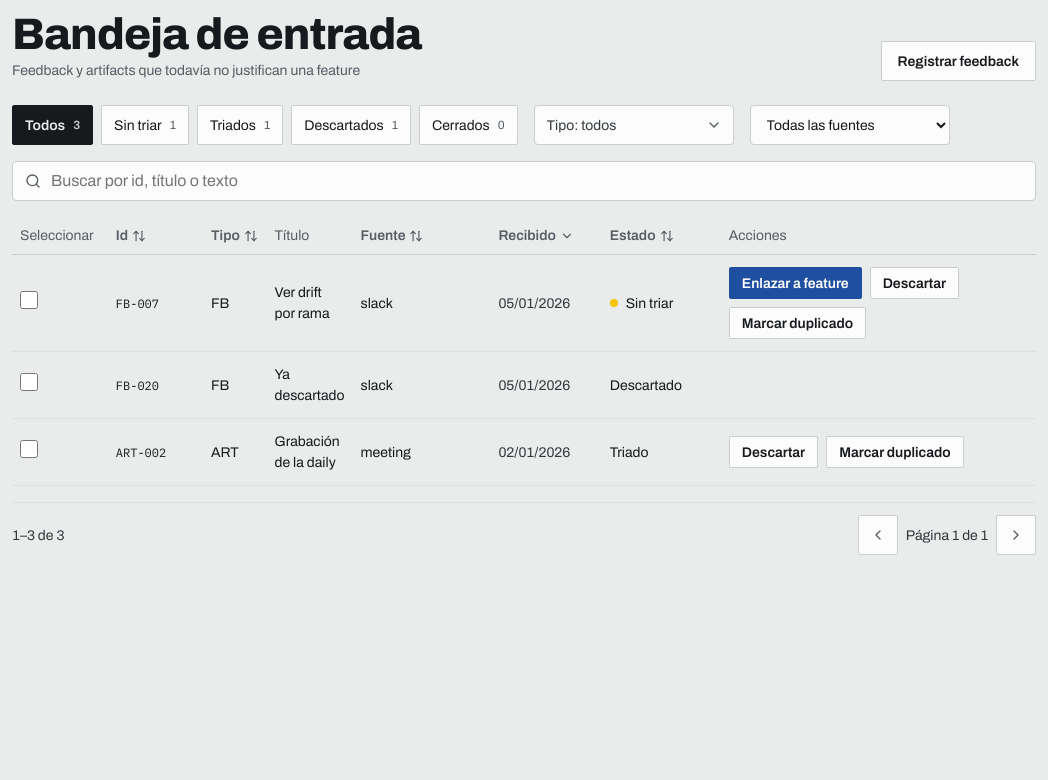
it: Entrada › triage › filters to dismissed items with the «Descartados» chip
Expected: the text "FB-020" is shown, [116,378,159,392]
Click the radio button labelled "Descartados 1". click: (351, 125)
box: [291,105,411,145]
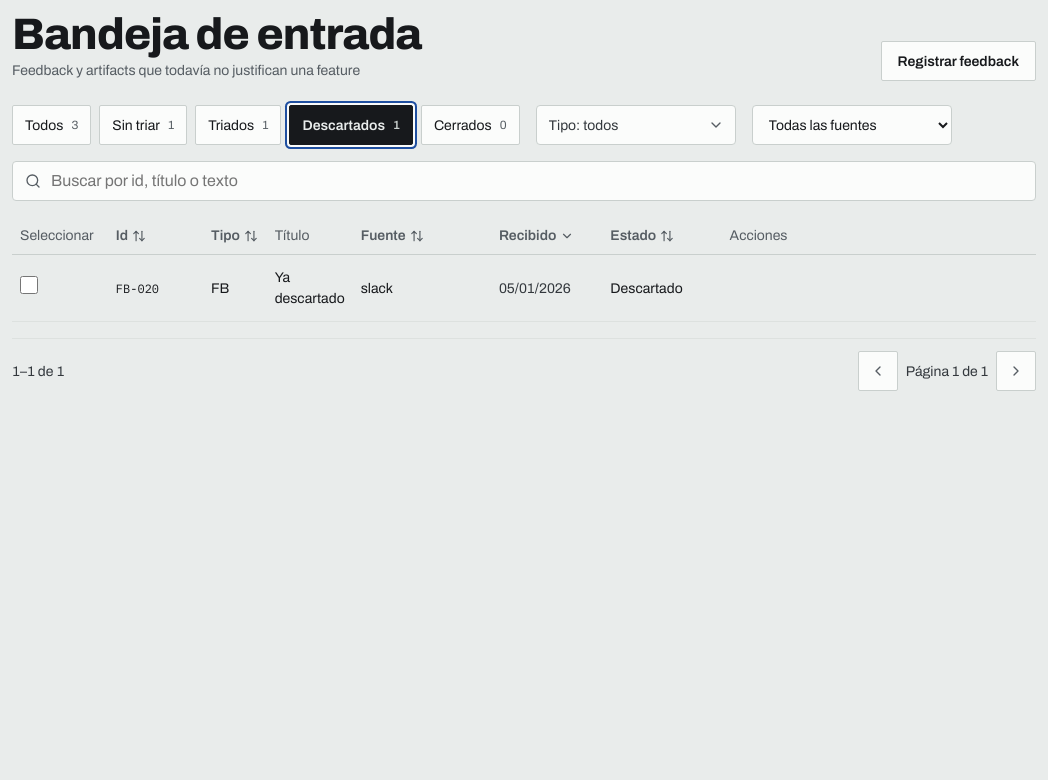
Expected: the text "FB-020" is shown, [116,280,159,296]
Expected: the text "FB-007" is gone
